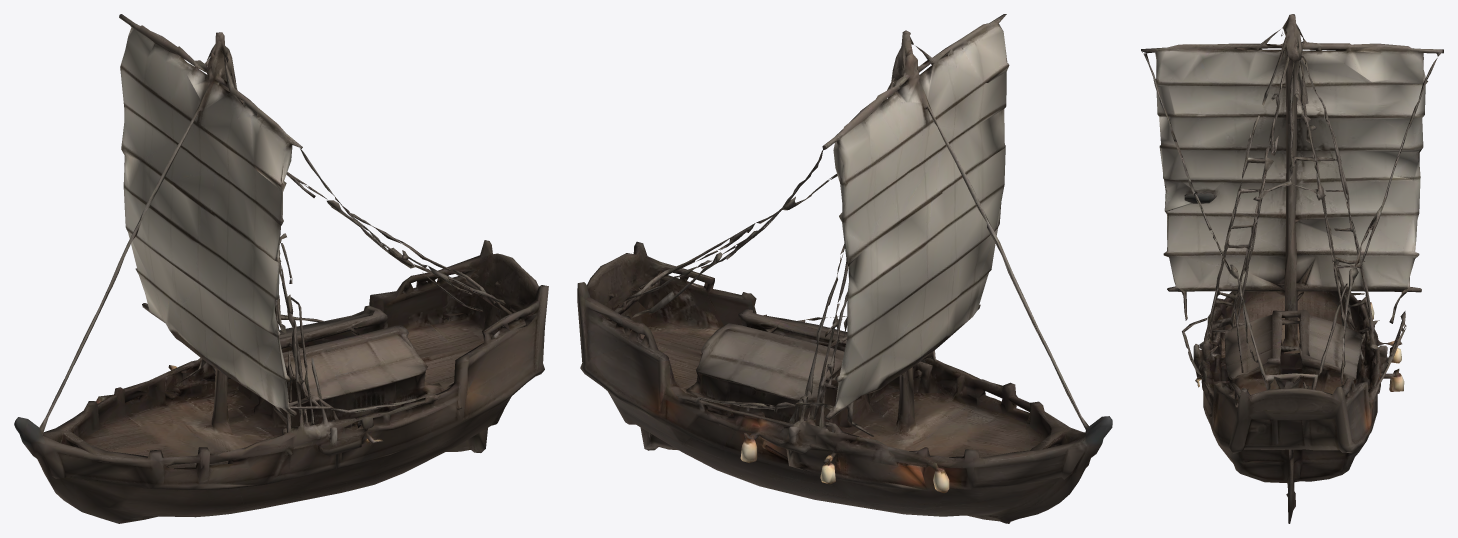
File: ship-junk.opt.glb
3 views of the same model, side by side, from view 1: azimuth 30°, elevation 25°; view 2: azimuth 150°, elevation 25°; view 3: azimuth 270°, elevation 25° (orthographic). The views are drawn at different scales.
Size of the model in its own units: 2 by 1.83 by 1.24.
1 material, 1 textured.
